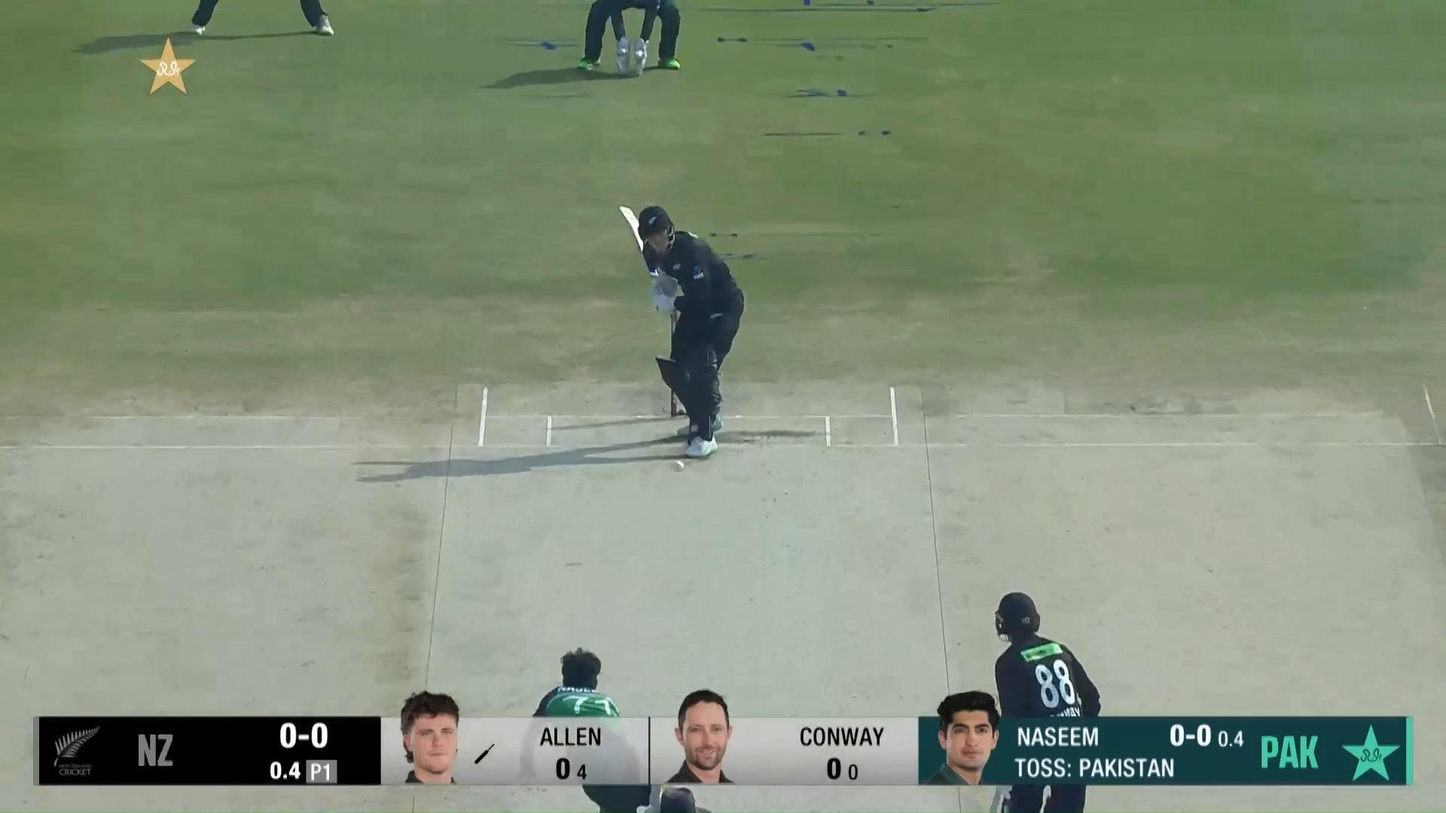BM 1: (618, 204, 746, 458)
BO: (519, 644, 667, 813)
